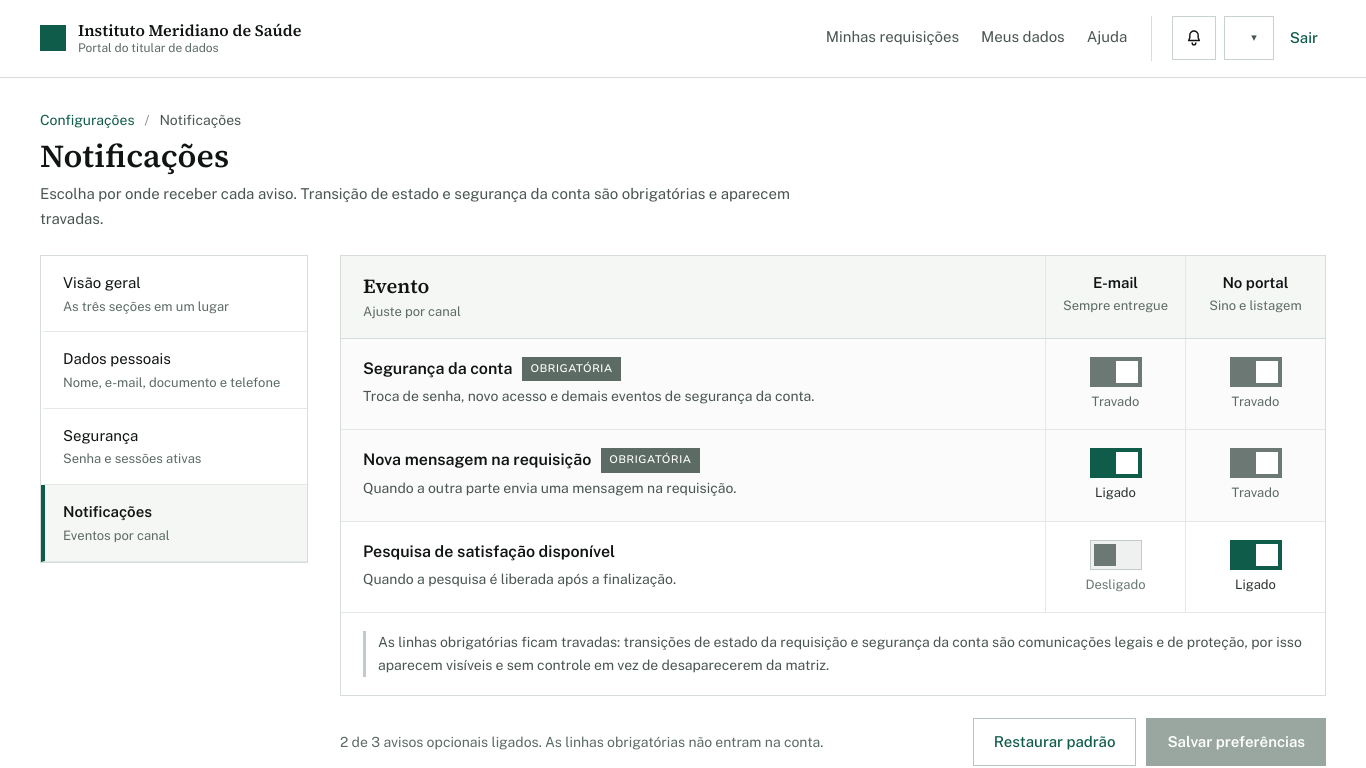
NotificationSettingsView › salva depois da confirmação e mostra o que o servidor gravou
Step 1. Click the switch named "E-mail para Pesquisa de satisfação disponível" → coordinates (1116, 554), box [1090,540,1142,570]
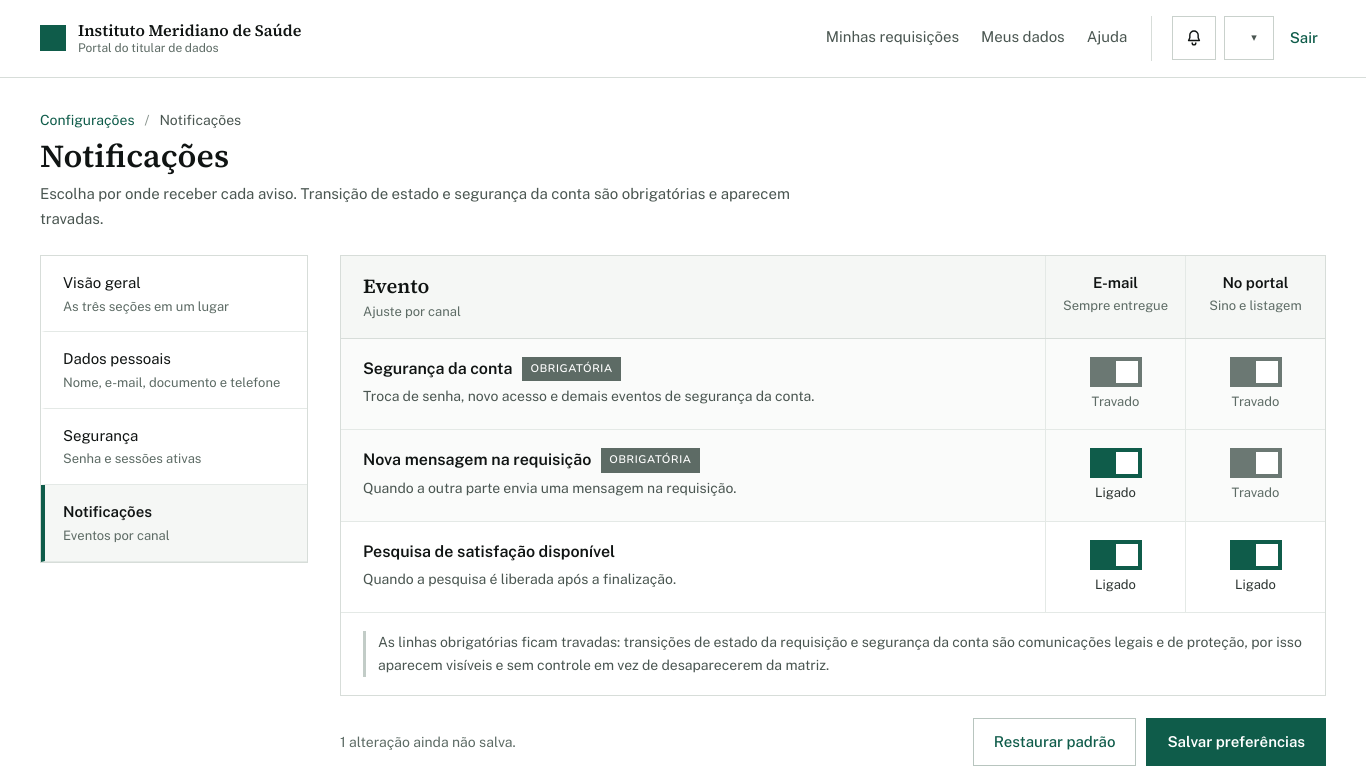
Step 2. Click the button "Salvar preferências" → coordinates (1236, 742), box [1146,718,1326,766]
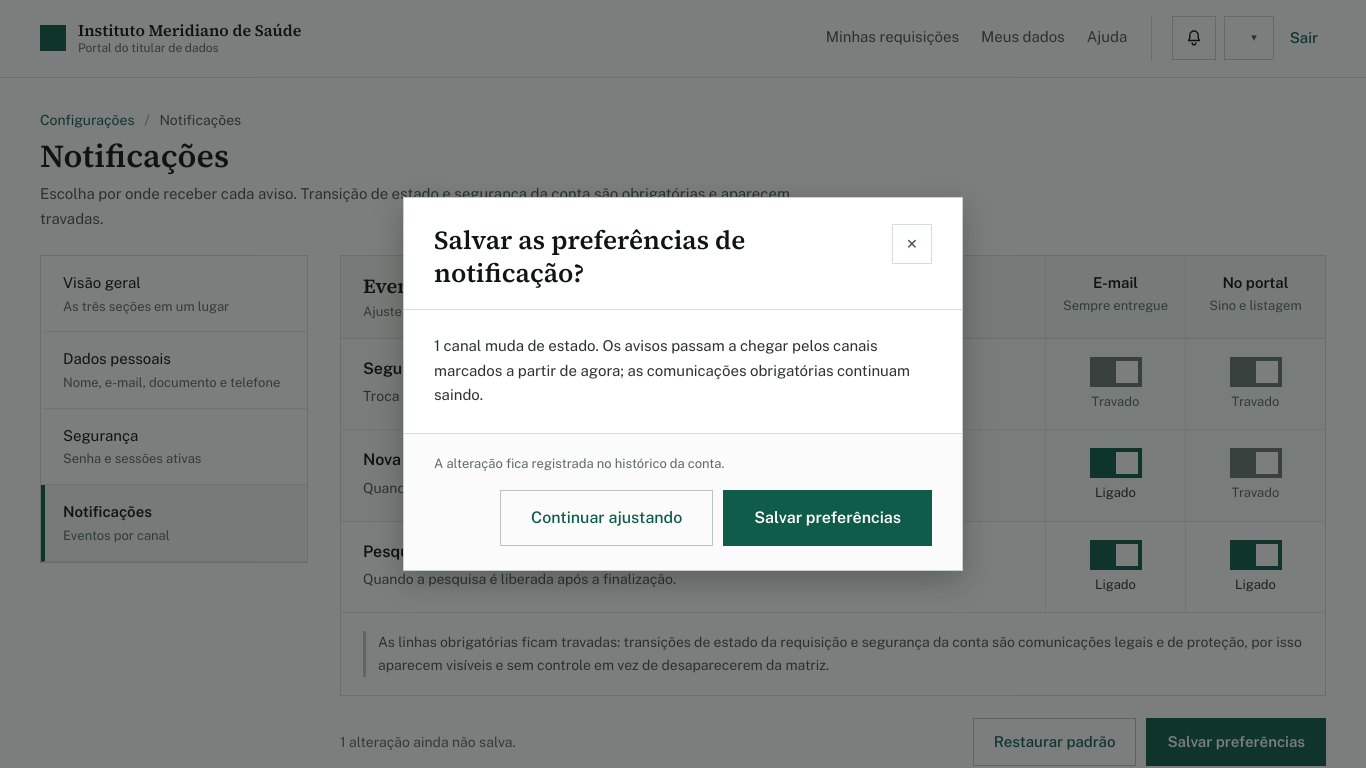
Expected: the dialog shows "1 canal muda de estado.", [434,337,910,403]
Step 3. Click the button "Salvar preferências" → coordinates (828, 518), box [723,490,932,546]
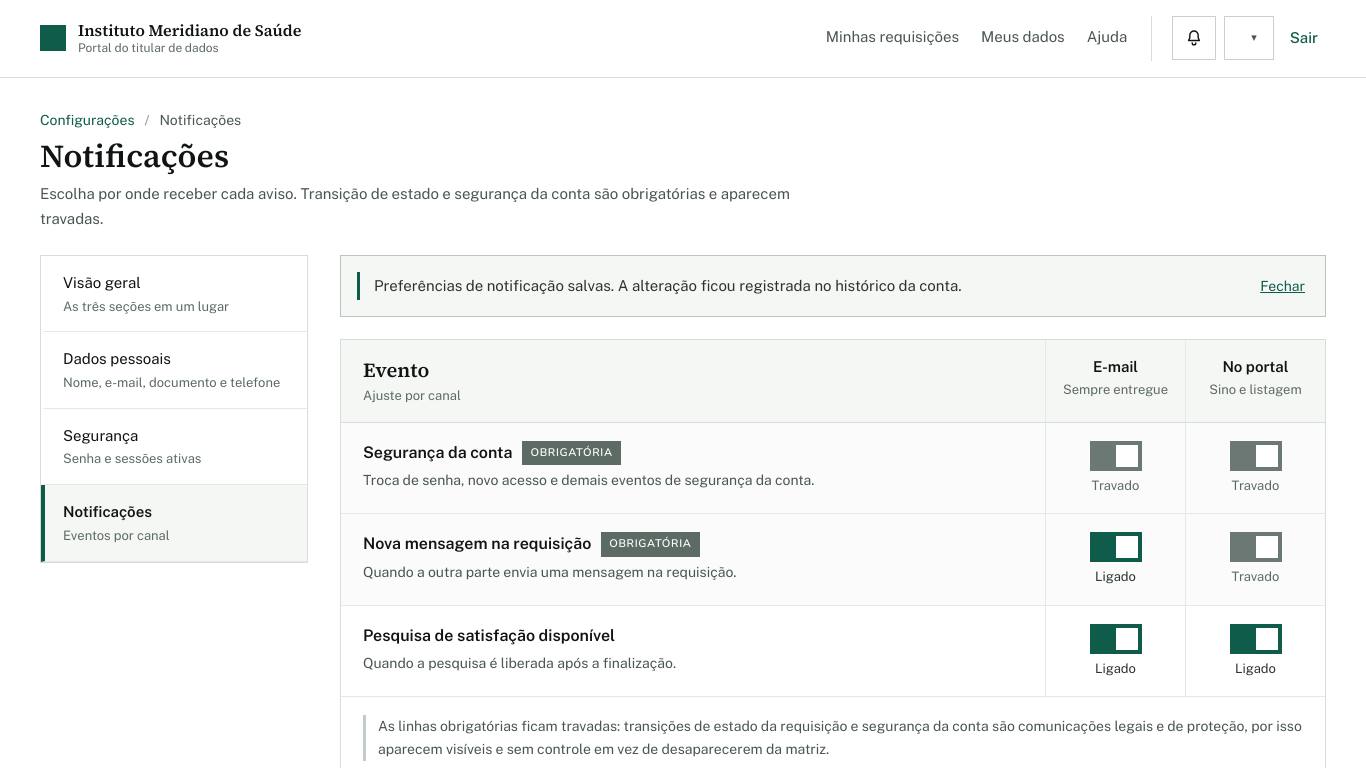
Expected: the text "Preferências de notificação salvas." is shown, [374,277,962,294]
